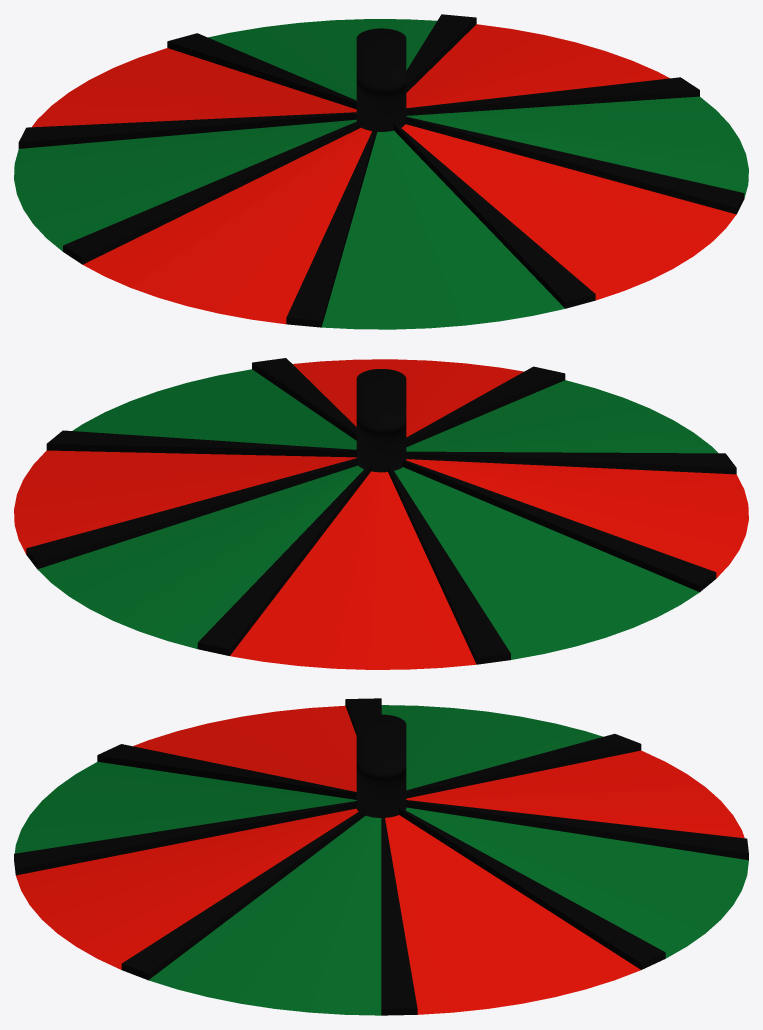
File: roulette_inner.glb
3 renders of one model, top to bottom at view 1: azimuth 30°, elevation 25°; view 2: azimuth 150°, elevation 25°; view 3: azimuth 270°, elevation 25°, orthographic.
Parts seen in each view (by area): view 1: wheel, center; view 2: wheel, center; view 3: wheel, center.
Boxes of the visible parts, x1,y1,x2,y2 form: wheel: (14,14,748,329); center: (356,28,406,131); wheel: (14,358,748,669); center: (356,369,406,472); wheel: (14,698,748,1015); center: (356,714,406,817).
Bounding box in the file's own units: 1.53 × 0.3111 × 1.53.
